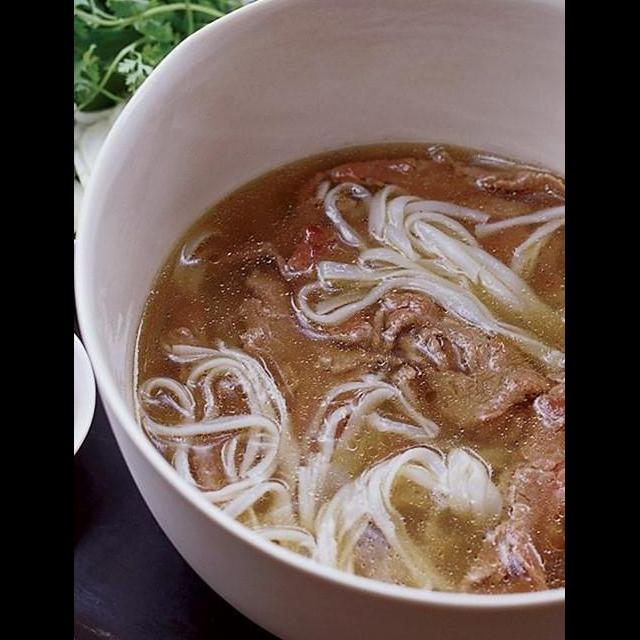banh pho: (135, 341, 508, 599), (288, 175, 566, 383)
thit bo: (348, 279, 558, 445), (288, 135, 566, 241), (450, 370, 566, 615)
